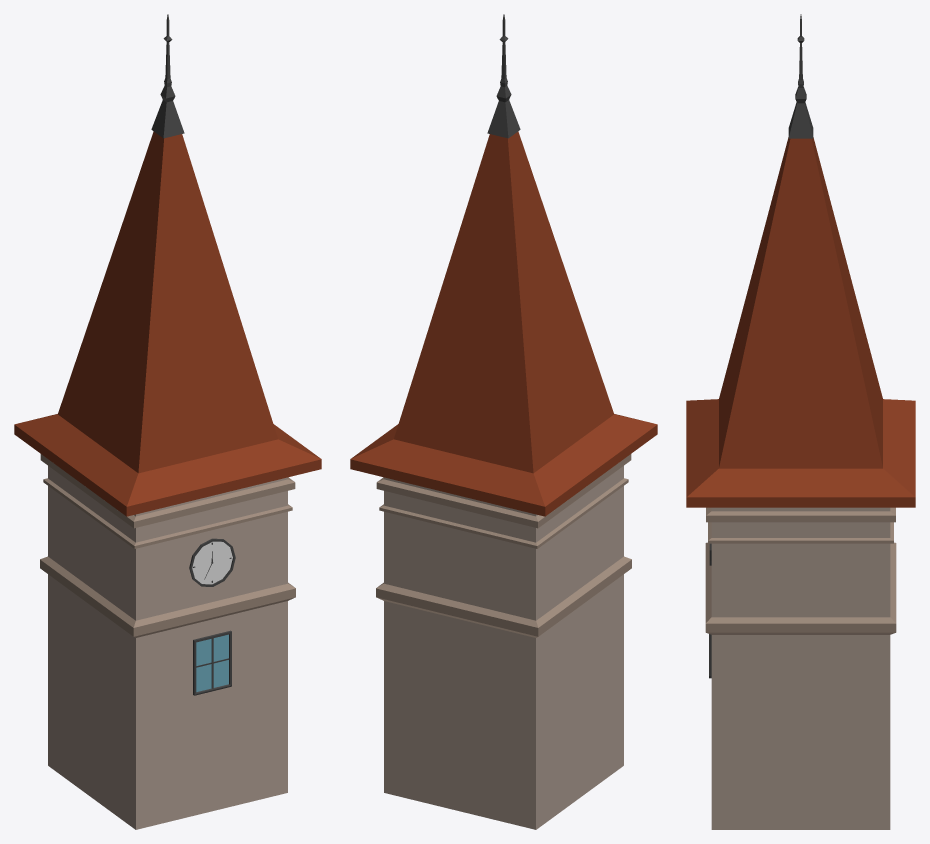
Rendered from Building_07.fbx.
3 views of the same model, side by side, from view 1: azimuth 30°, elevation 25°; view 2: azimuth 150°, elevation 25°; view 3: azimuth 270°, elevation 25° (orthographic).
Parts seen in each view (by area): view 1: Building_07; view 2: Building_07; view 3: Building_07.
Boxes of the visible parts, box(x1,y1,x2,y2) form: Building_07: box(14, 14, 321, 829); Building_07: box(350, 14, 657, 829); Building_07: box(686, 14, 915, 829).
Size of the model in its own units: 641 by 2402 by 641.
